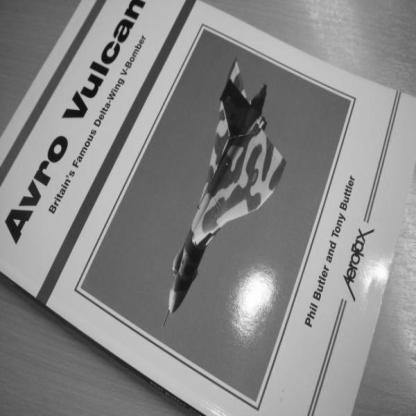Vulcan: (163, 57, 289, 329)
